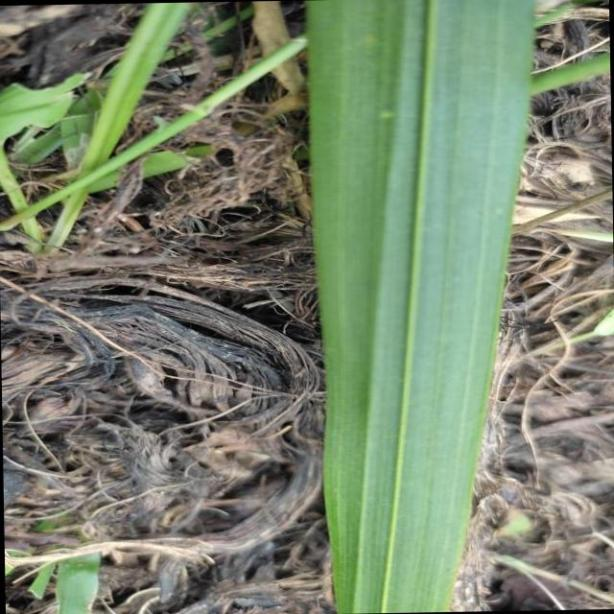Healthy: (310, 1, 535, 614)
